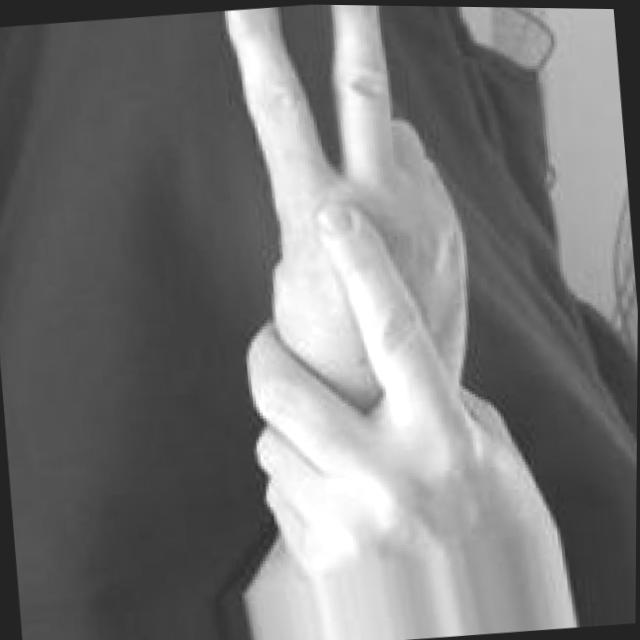Y: (213, 3, 578, 640)
